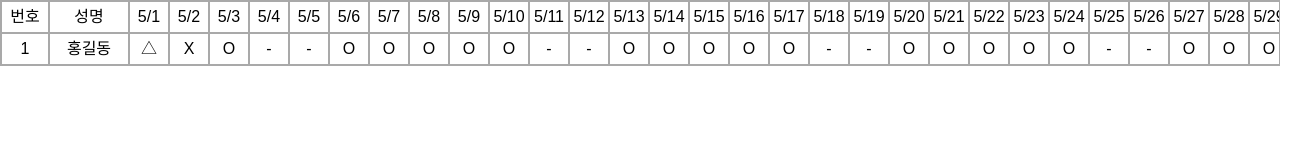
AttendanceContent › edit=true일 때 셀 클릭으로 출결 상태가 순환한다
Step 1. Click the text "△" → (149, 49), box [141,37,157,61]
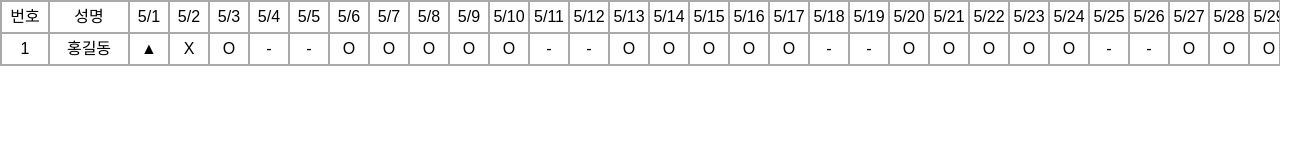
Check: the text "△" reads "▲", box [141,40,157,57]
Step 2. Click the text "△" → (149, 49), box [141,37,157,61]
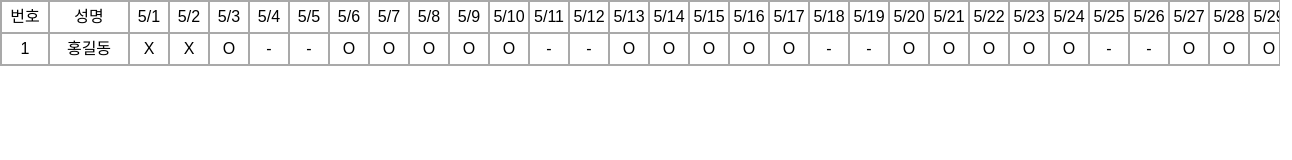
Check: the 1st text "△" reads "X", box [144,40,154,57]
Step 3. Click the 1st text "△" → (149, 49), box [144,37,154,61]
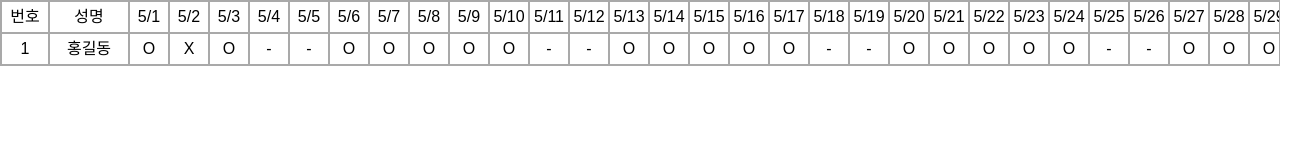
Check: the 1st text "△" reads "O", box [143,40,155,57]
Step 4. Click the 1st text "△" → (149, 49), box [143,37,155,61]
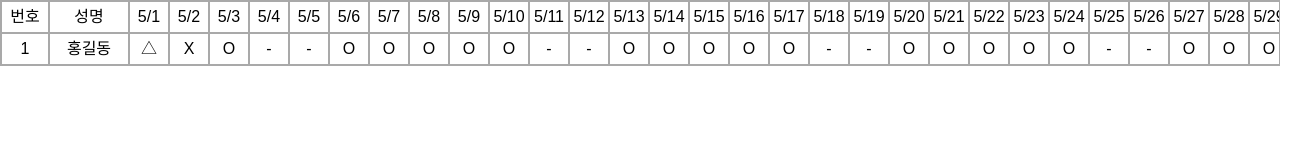
Check: the text "△" is shown, box [141,37,157,61]
